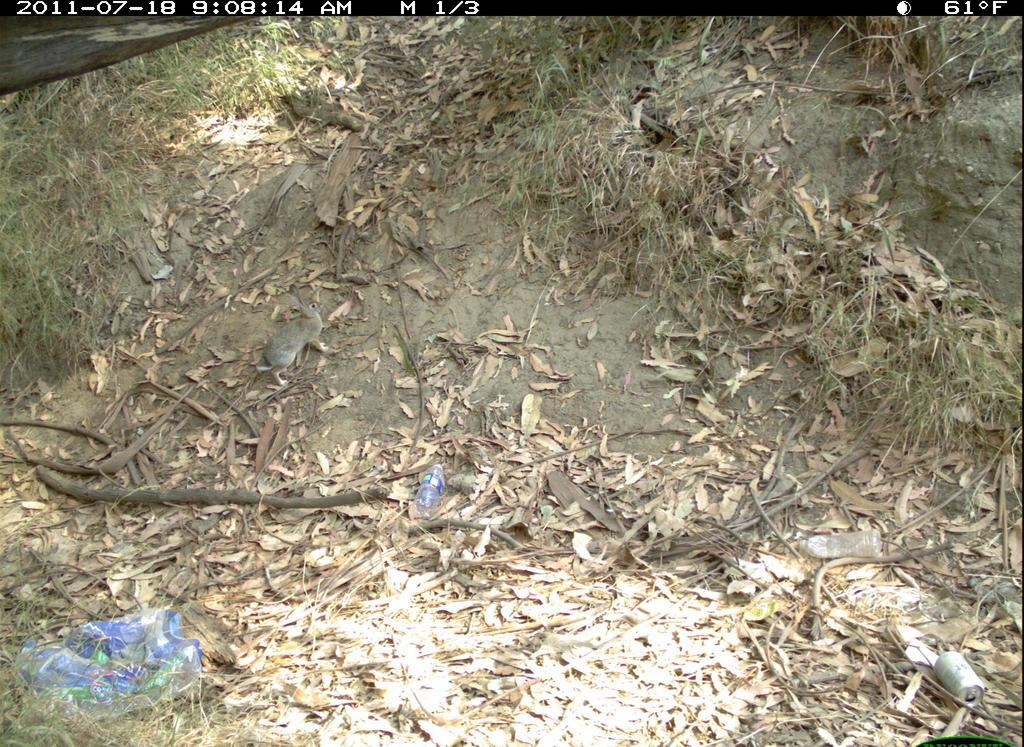rabbit: (244, 285, 350, 411)
